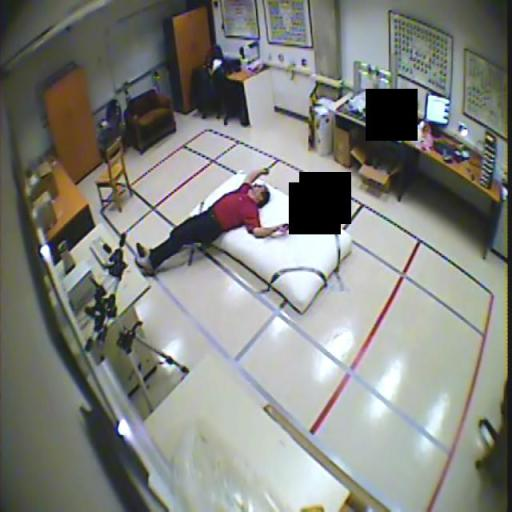Fall: (137, 167, 291, 271)
